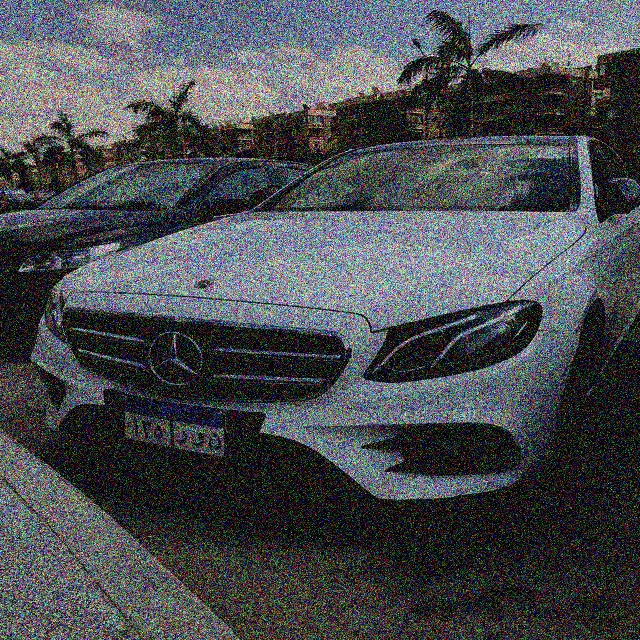License Plate: (120, 393, 230, 461)
